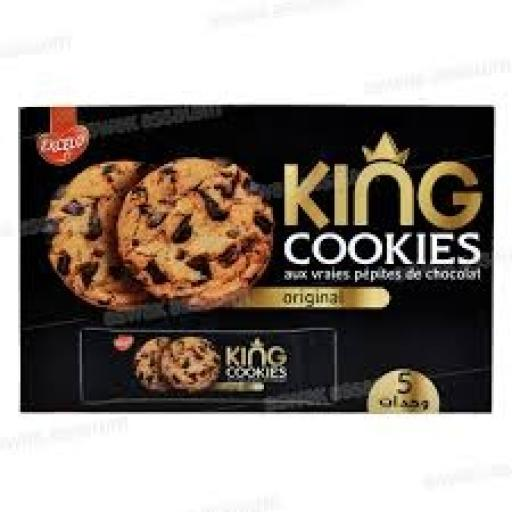king_cooking: (50, 267, 398, 434)
